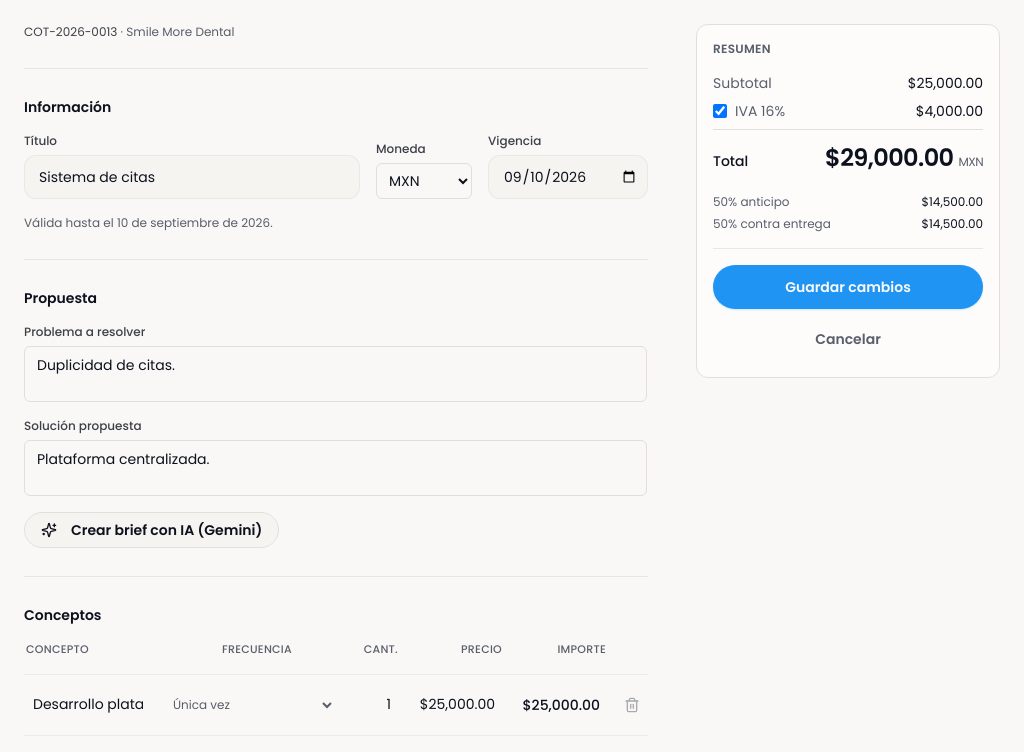
it: resumen económico (criterios 4, 12) › apagar el IVA cambia el total sin tocar el subtotal
Click the checkbox named "Agregar IVA (16%)" at (720, 111), box x1=713 y1=104 x2=727 y2=118
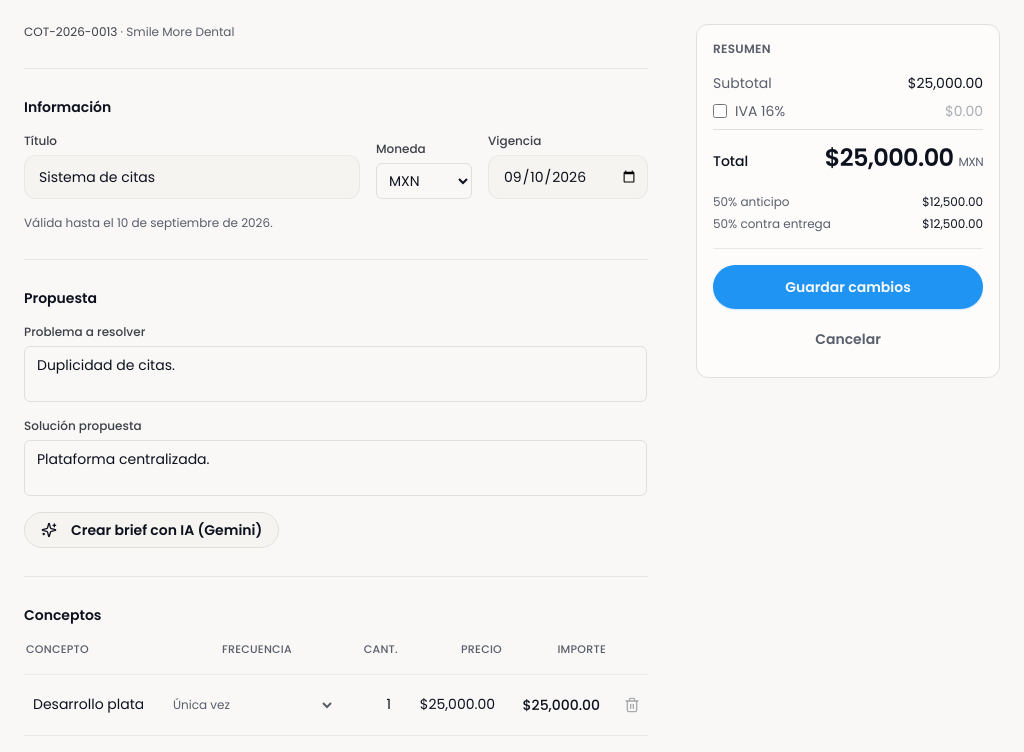
Check: the element that starts with "Resumen" shows "$25,000.00", box x1=908 y1=73 x2=983 y2=93
Check: the text "$29,000.00" is gone
